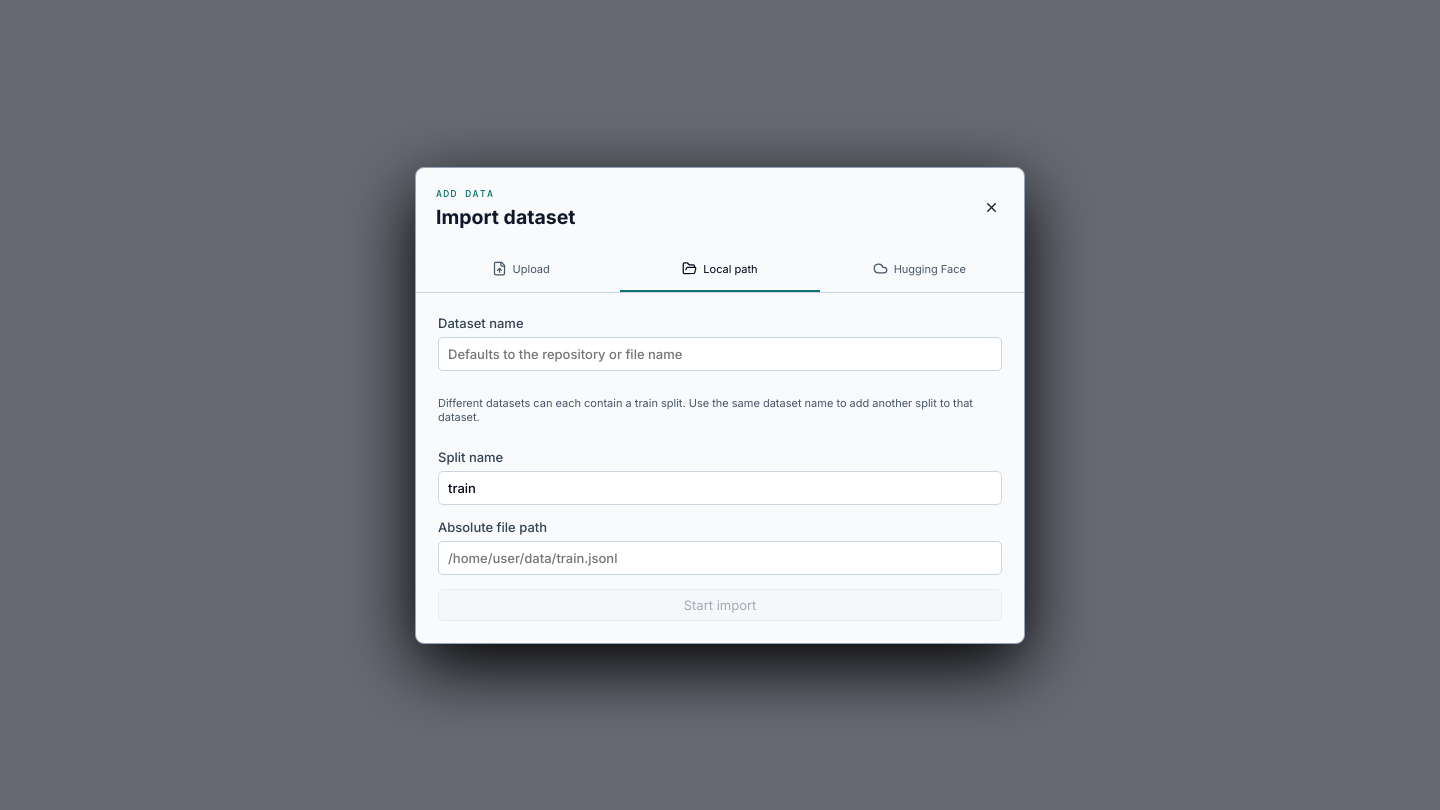
Test: Dataset names across import methods › defaults local dataset names from the selected file
The width and height of the screenshot is (1440, 810).
In the field labelled "Absolute file path": (720, 558) [438,540,1002,574], type "/datasets/another-dataset.jsonl"
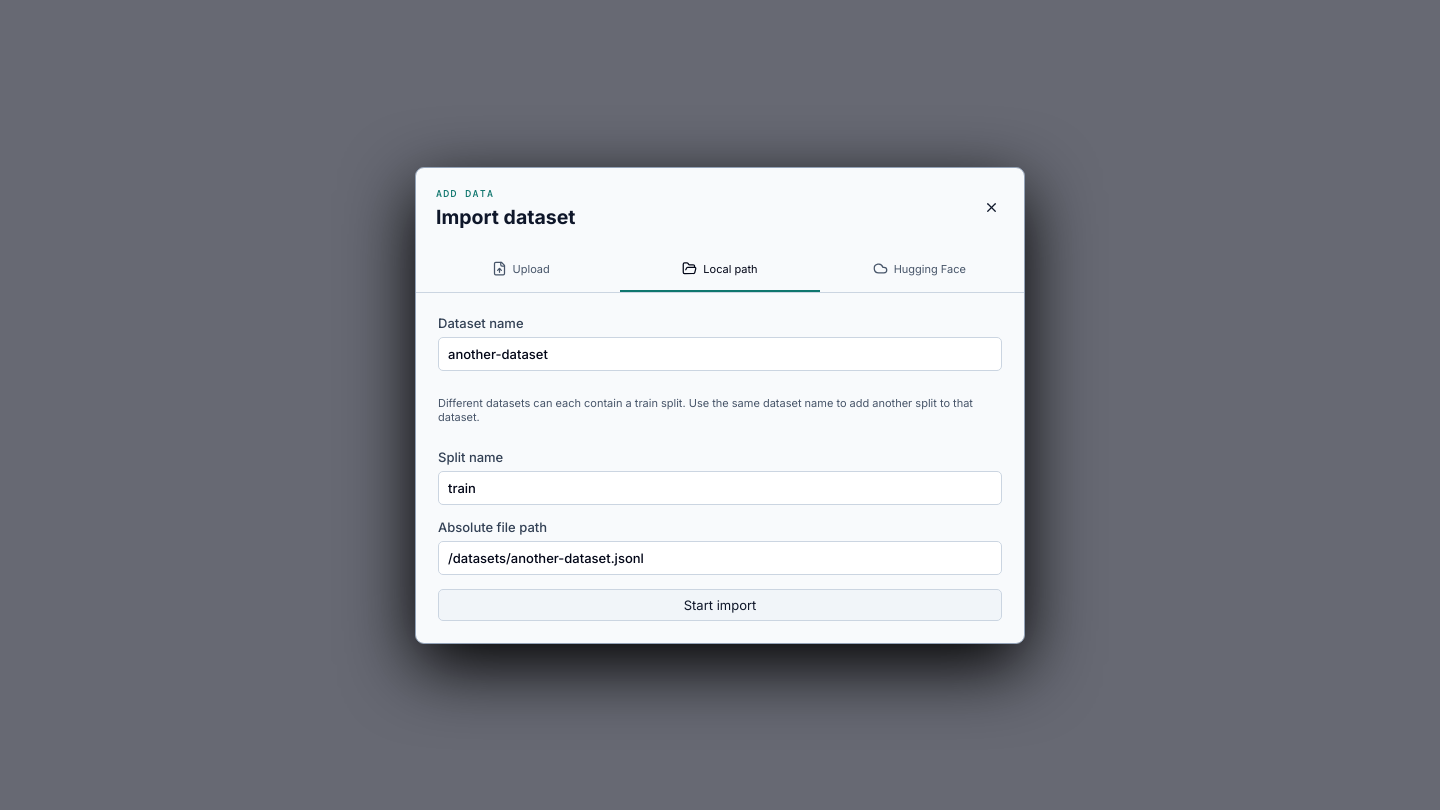
Now the field labelled "Dataset name" holds "another-dataset", box [438,336,1002,370]
